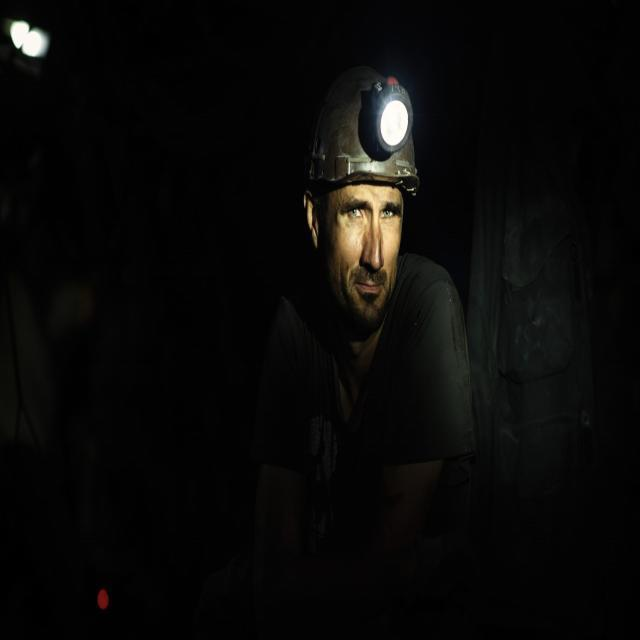No_Goggles: (329, 189, 406, 239)
Person: (282, 35, 474, 561)
